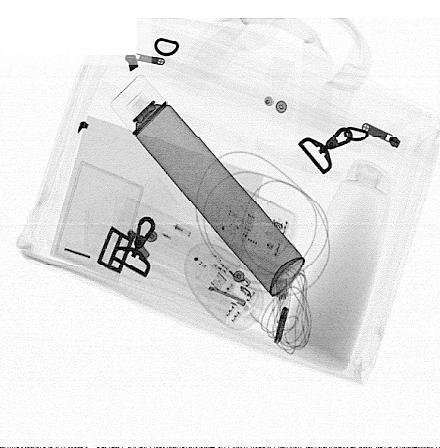Sprayer: (109, 72, 307, 299)
